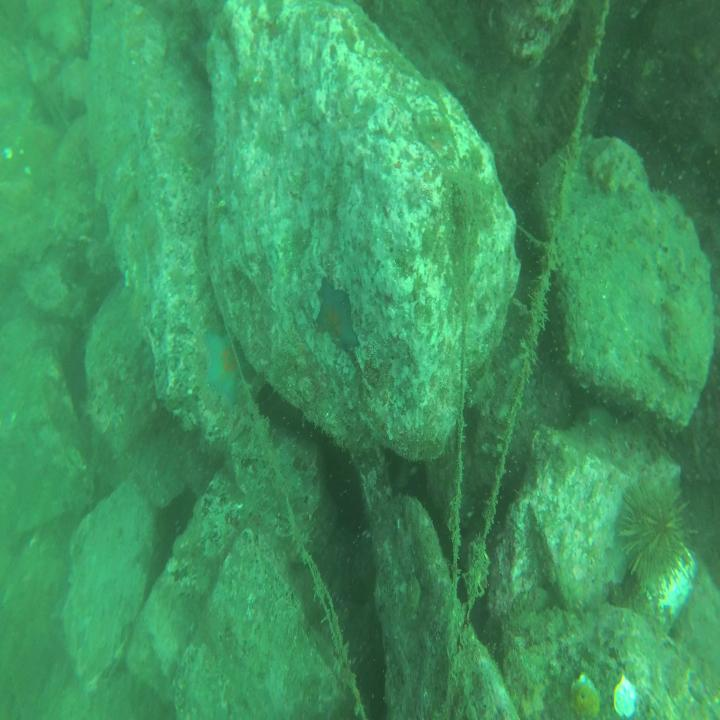echinus: (617, 471, 693, 604)
starfish: (311, 275, 363, 356), (199, 320, 242, 408)
